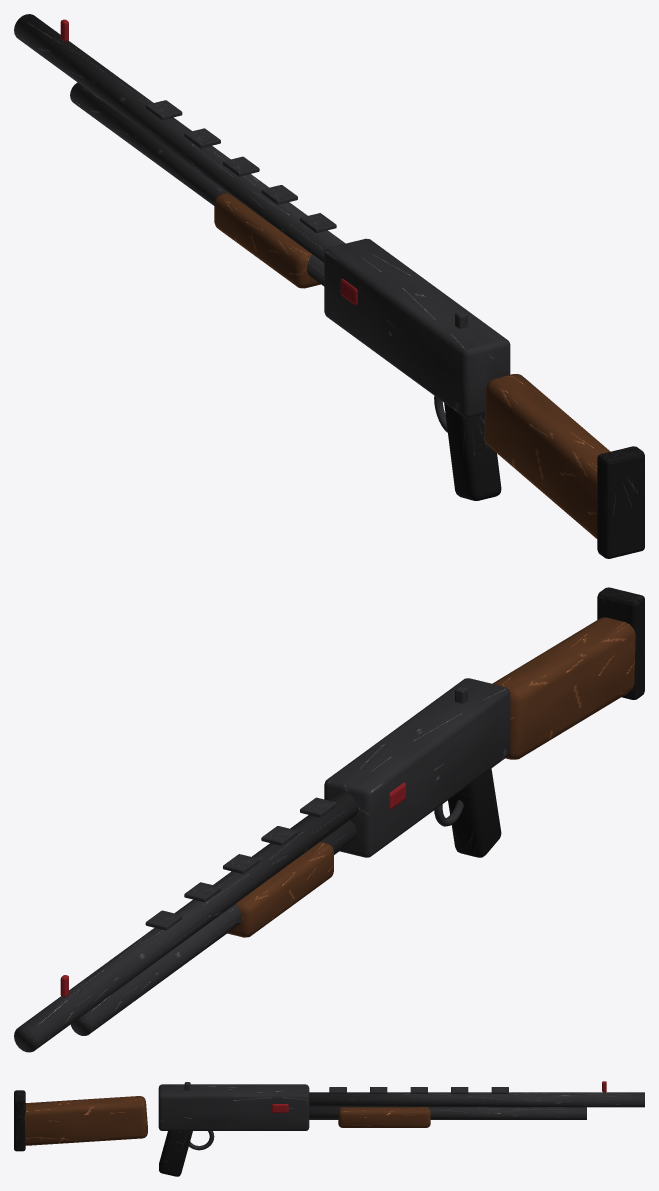
Rendered from weapon-shotgun.glb.
3 views of the same model, one above another, from view 1: azimuth 30°, elevation 25°; view 2: azimuth 150°, elevation 25°; view 3: azimuth 270°, elevation 25° (orthographic). The views are drawn at different scales.
Visible parts, largest first — view 1: Cube, Cube.002, Cylinder, Cube.003, Cube.001, Cylinder.001, Cube.004; view 2: Cube, Cube.002, Cylinder, Cylinder.001, Cube.001, Cube.004, Cube.003; view 3: Cube, Cube.002, Cylinder, Cylinder.001, Cube.001, Cube.004, Cube.003, Torus.
Part boxes in pixels (bbox=[...]): Cube: bbox=[324, 238, 510, 418]; Cube.002: bbox=[484, 374, 610, 538]; Cylinder: bbox=[14, 14, 345, 262]; Cube.003: bbox=[597, 446, 644, 558]; Cube.001: bbox=[214, 193, 320, 288]; Cylinder.001: bbox=[70, 82, 324, 286]; Cube.004: bbox=[444, 403, 501, 500]; Cube: bbox=[324, 678, 510, 857]; Cube.002: bbox=[492, 617, 635, 759]; Cylinder: bbox=[14, 792, 358, 1052]; Cylinder.001: bbox=[70, 820, 357, 1035]; Cube.001: bbox=[227, 841, 333, 937]; Cube.004: bbox=[448, 768, 501, 857]; Cube.003: bbox=[597, 587, 644, 699]; Cube: bbox=[158, 1084, 309, 1130]; Cube.002: bbox=[24, 1096, 147, 1145]; Cylinder: bbox=[309, 1092, 644, 1107]; Cylinder.001: bbox=[309, 1107, 586, 1119]; Cube.001: bbox=[338, 1107, 430, 1127]; Cube.004: bbox=[159, 1131, 192, 1176]; Cube.003: bbox=[14, 1090, 25, 1151]; Torus: bbox=[189, 1131, 214, 1150].
Bounding box in the file's own units: 0.054 × 0.1767 × 1.09.
Materials: 4 (3 with a texture image).
